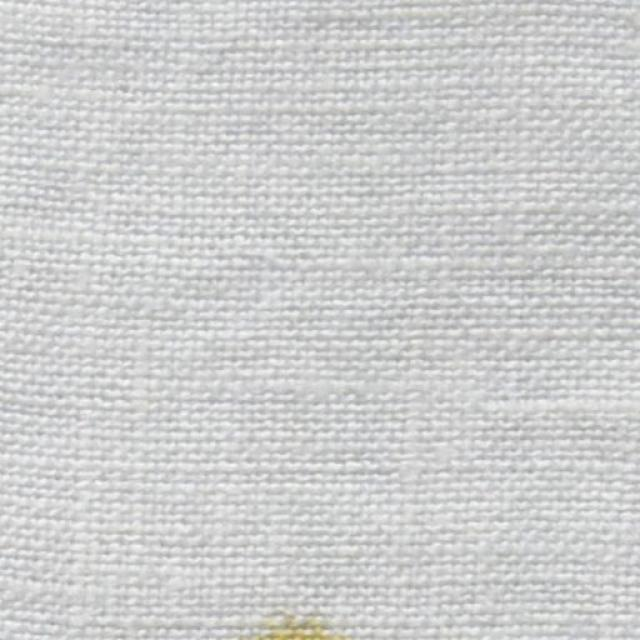Stain: (244, 618, 361, 639)
